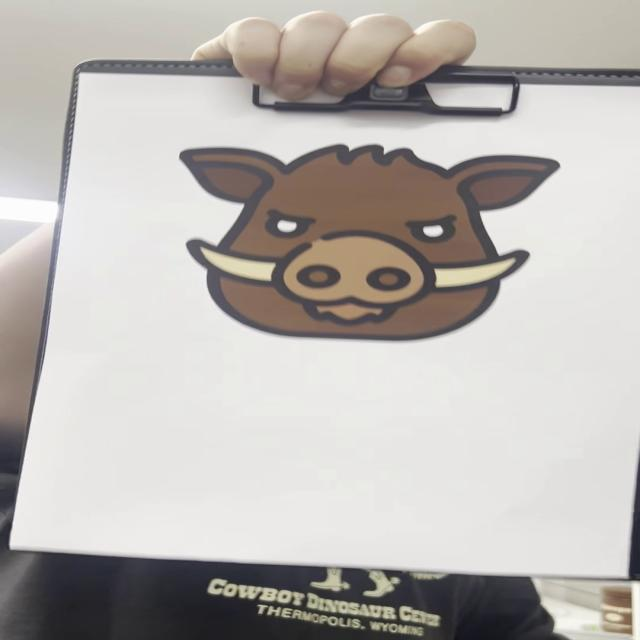animal: (179, 142, 564, 342)
